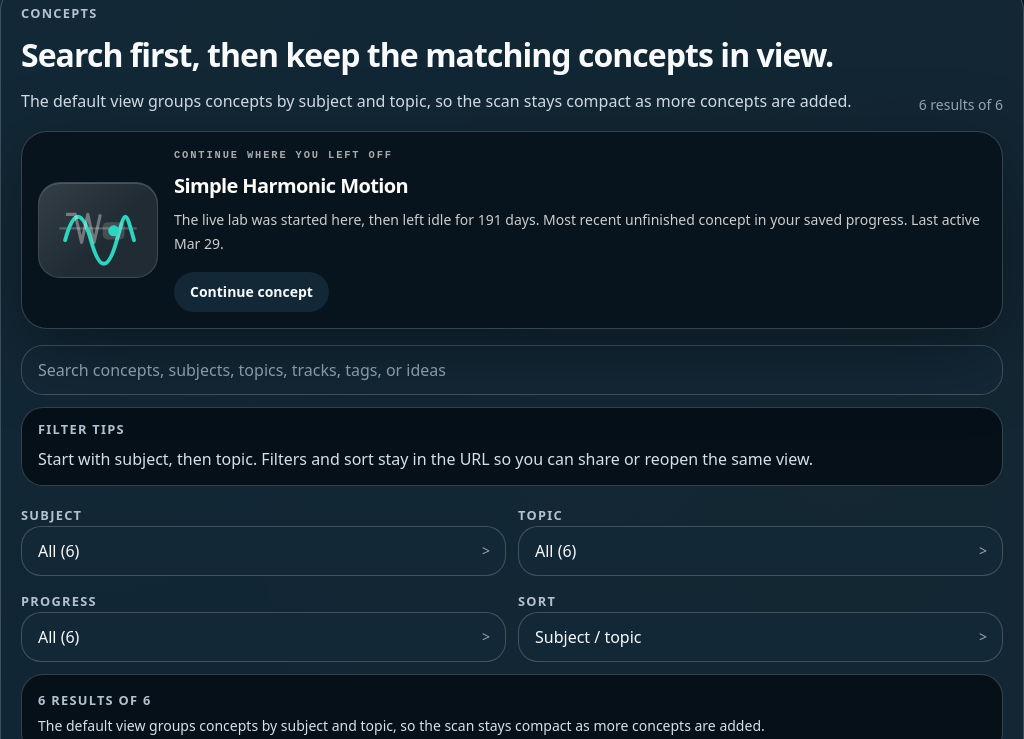
Test: ConceptLibraryBrowser › renders synced progress cues and focused reset actions for empty states
The width and height of the screenshot is (1024, 739).
Expected: the text "saved progress" is shown, [174,210,980,253]
Select "Math (2)" in the dropdown named "subject filter" at (264, 551), box [21,526,506,576]
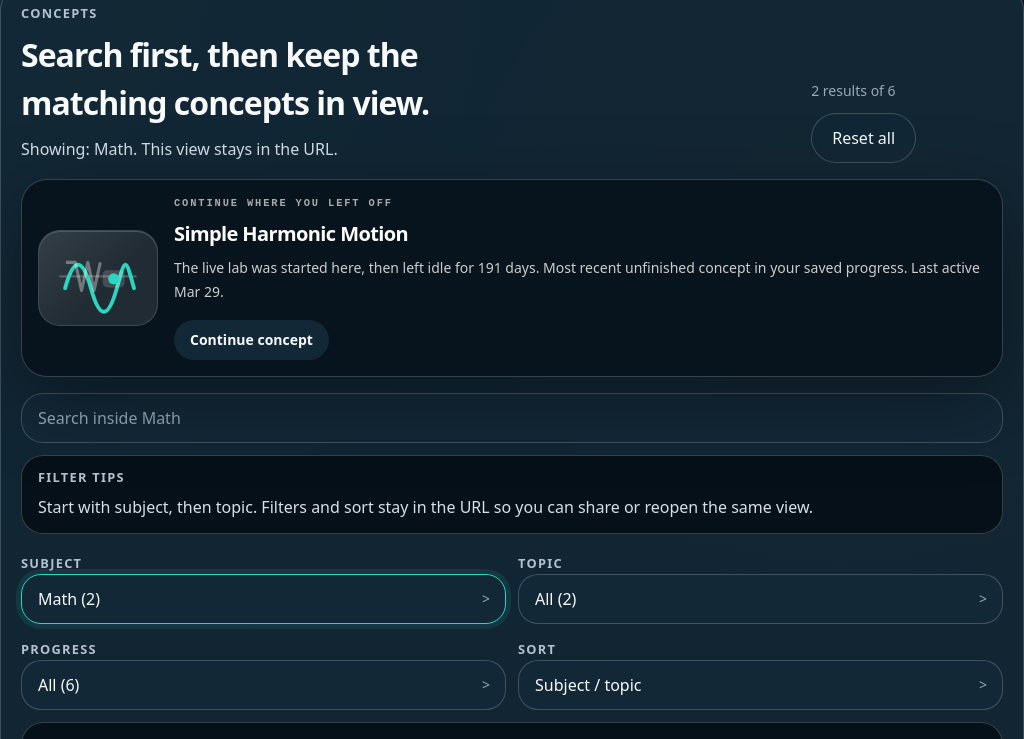
Type "velocity" into the field named "search concepts" at (512, 418), box [21,393,1003,443]
(page scrolled)
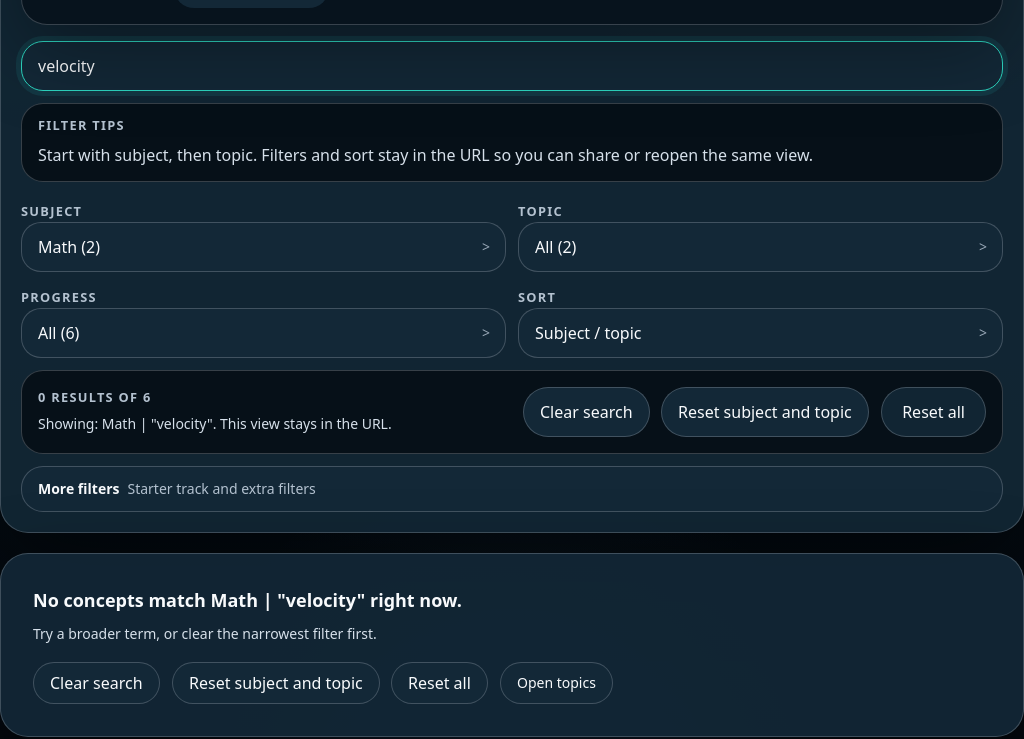
Result: the 1st button "Reset subject and topic" is shown at [661,387,869,437]
Result: the text "No concepts match Math | \"velocity\" right now." is shown at [33,588,462,612]
Result: the 1st button "Clear search" is shown at [523,387,649,437]
